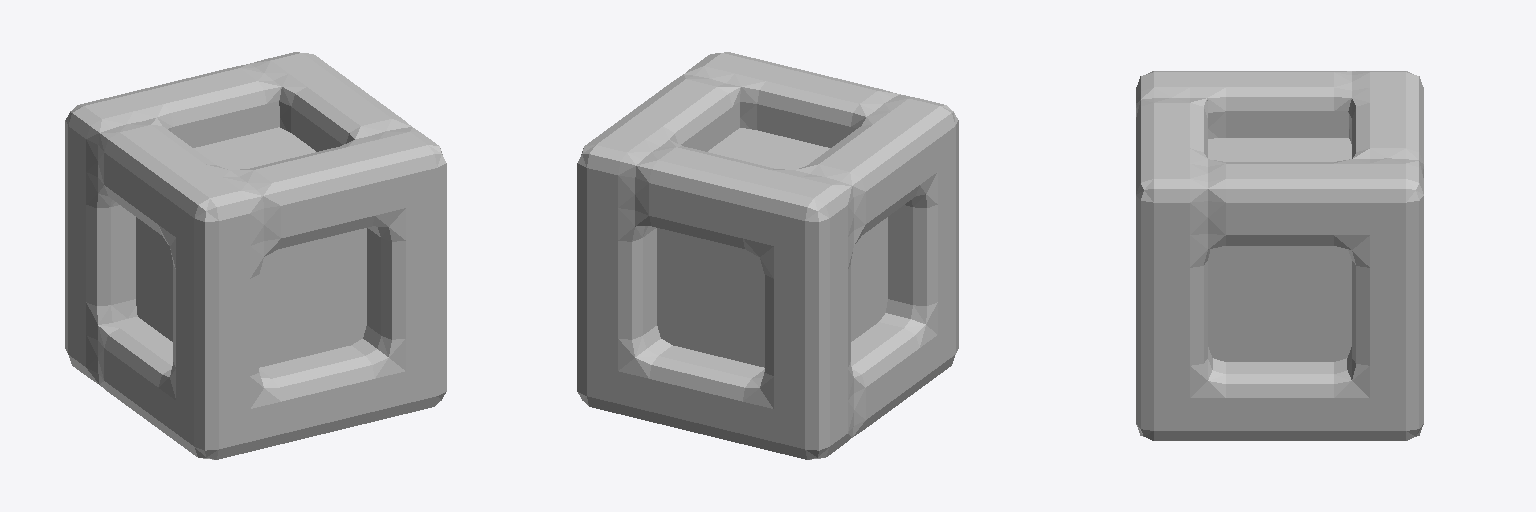
Rendered from health pack.obj.
The picture shows the model from 3 angles: view 1: azimuth 30°, elevation 25°; view 2: azimuth 150°, elevation 25°; view 3: azimuth 270°, elevation 25°; orthographic projection.
Parts seen in each view (by area): view 1: Cube, Cube.001, Plane.003, Plane.001, Plane.004; view 2: Cube, Cube.001, Plane.002, Plane.001, Plane.004; view 3: Cube, Cube.001, Plane.
Part boxes in pixels (left/top/right/bottom): Cube: left=65, top=52, right=446, bottom=459; Cube.001: left=136, top=127, right=366, bottom=367; Plane.003: left=267, top=250, right=341, bottom=333; Plane.001: left=150, top=241, right=172, bottom=315; Plane.004: left=222, top=149, right=291, bottom=169; Cube: left=577, top=52, right=958, bottom=459; Cube.001: left=657, top=128, right=887, bottom=367; Plane.002: left=682, top=250, right=756, bottom=333; Plane.001: left=851, top=240, right=873, bottom=315; Plane.004: left=732, top=149, right=801, bottom=169; Cube: left=1136, top=71, right=1423, bottom=440; Cube.001: left=1208, top=138, right=1351, bottom=361; Plane: left=1237, top=258, right=1322, bottom=335.
Bounding box in the file's own units: 8 × 8 × 8.